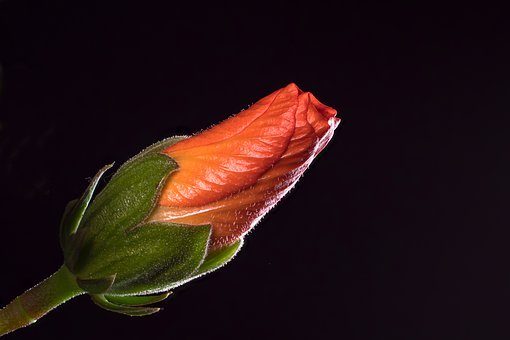Hibiscus: (84, 72, 371, 290)
